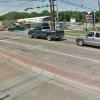Car: (71, 25, 100, 52)
